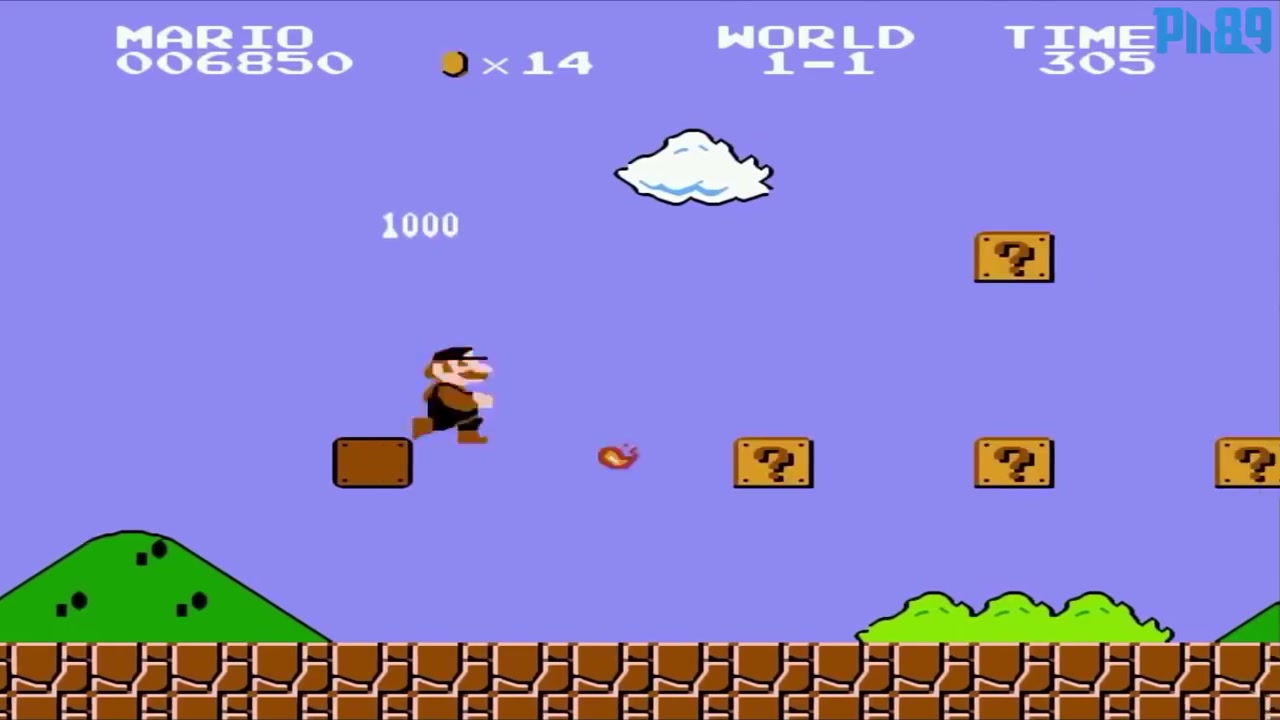mario: (403, 337, 500, 448)
